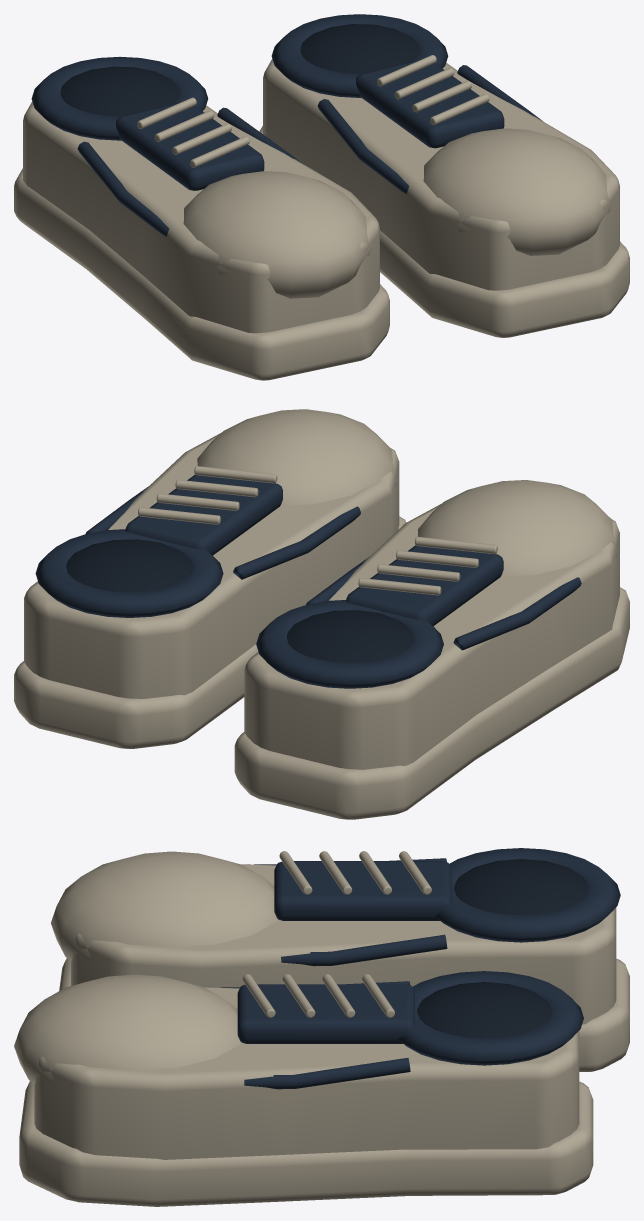
File: sneakers.glb
3 views of the same model, one above another, from view 1: azimuth 30°, elevation 25°; view 2: azimuth 150°, elevation 25°; view 3: azimuth 270°, elevation 25° (orthographic). The views are drawn at different scales.
Parts seen in each view (by area): view 1: SM_sneakers; view 2: SM_sneakers; view 3: SM_sneakers.
Part boxes in pixels (left/top/right/bottom): SM_sneakers: left=14, top=14, right=629, bottom=380; SM_sneakers: left=14, top=409, right=629, bottom=819; SM_sneakers: left=14, top=848, right=629, bottom=1206.
Size of the model in its own units: 0.352 by 0.121 by 0.402.
